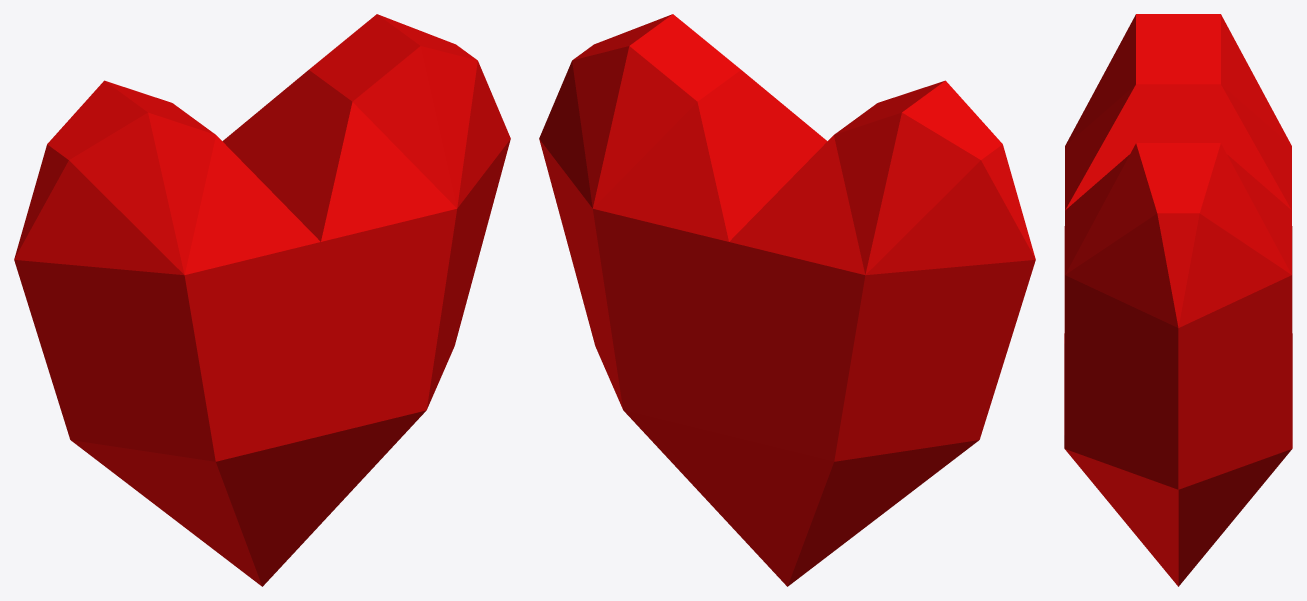
File: Heart.fbx
3 views of the same model, side by side, from view 1: azimuth 30°, elevation 25°; view 2: azimuth 150°, elevation 25°; view 3: azimuth 270°, elevation 25° (orthographic). The views are drawn at different scales.
Parts seen in each view (by area): view 1: pCone1; view 2: pCone1; view 3: pCone1.
Boxes of the visible parts, left/top/right/bottom form: pCone1: left=14, top=14, right=510, bottom=586; pCone1: left=539, top=14, right=1035, bottom=586; pCone1: left=1064, top=14, right=1292, bottom=586.
Size of the model in its own units: 2.13 by 2.14 by 0.8708.
